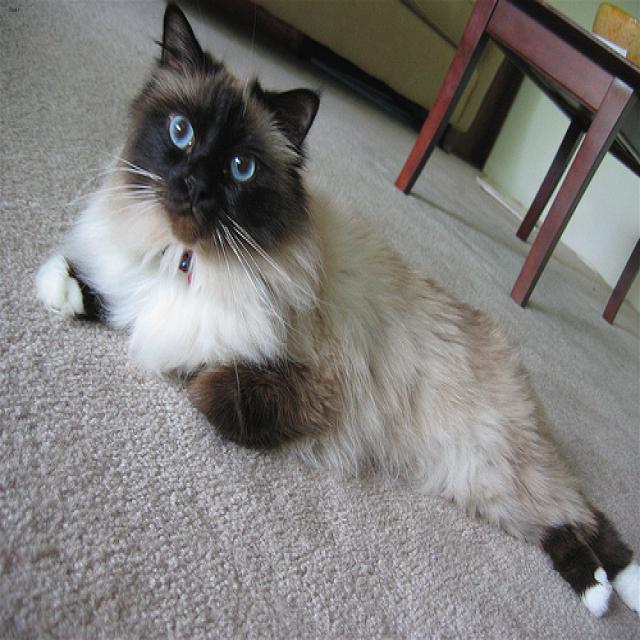Birman: (110, 2, 324, 288)
